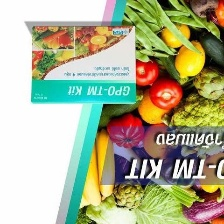book: (29, 22, 140, 107)
